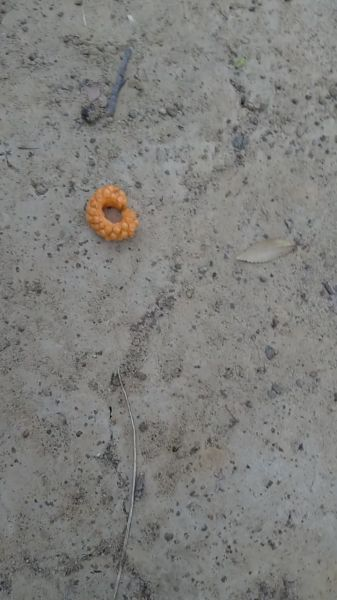eggs: (85, 180, 146, 247)
